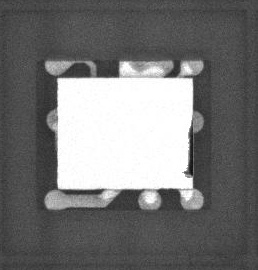DIE_BROKEN: (181, 121, 197, 180)
